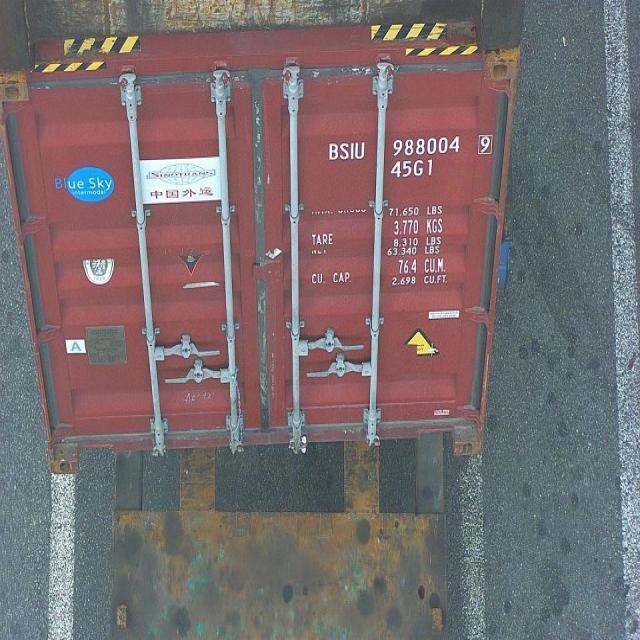ISO: (390, 160, 436, 178)
container_number: (325, 136, 491, 156)
